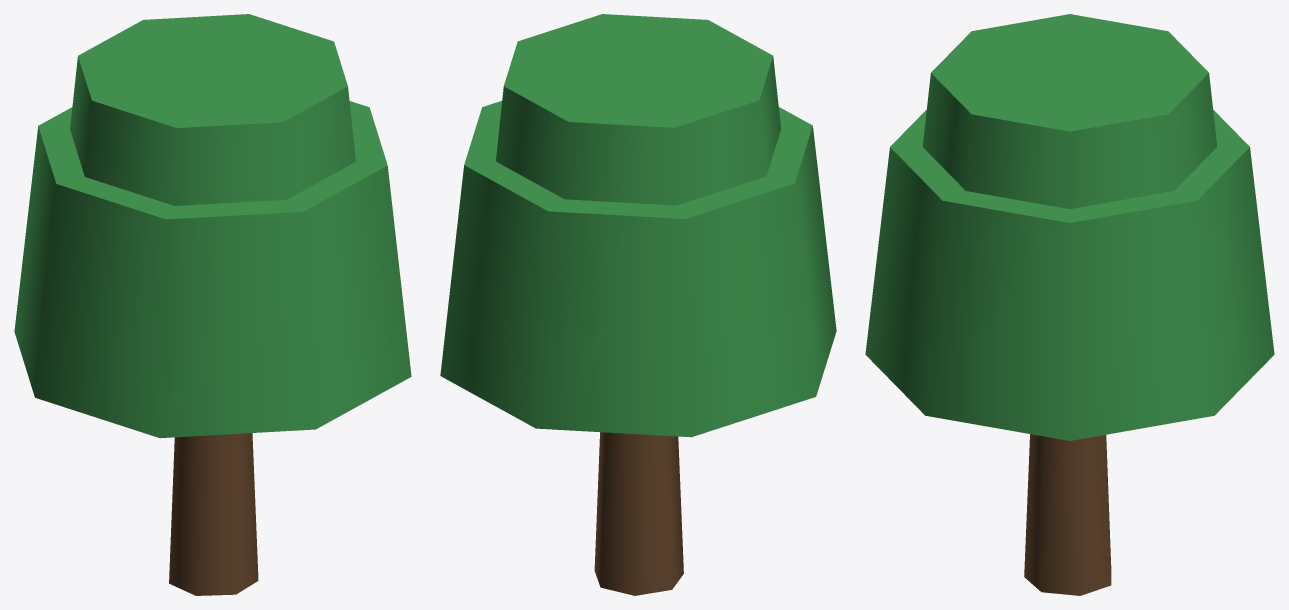
The model's file is tree_apple.glb.
3 views of the same model, side by side, from view 1: azimuth 30°, elevation 25°; view 2: azimuth 150°, elevation 25°; view 3: azimuth 270°, elevation 25° (orthographic).
Visible parts, largest first — view 1: tree_apple; view 2: tree_apple; view 3: tree_apple.
Part boxes in pixels (left/top/right/bottom): tree_apple: left=14, top=14, right=411, bottom=595; tree_apple: left=440, top=14, right=836, bottom=595; tree_apple: left=865, top=14, right=1274, bottom=595.
Size of the model in its own units: 2.5 by 3.4 by 2.5.
